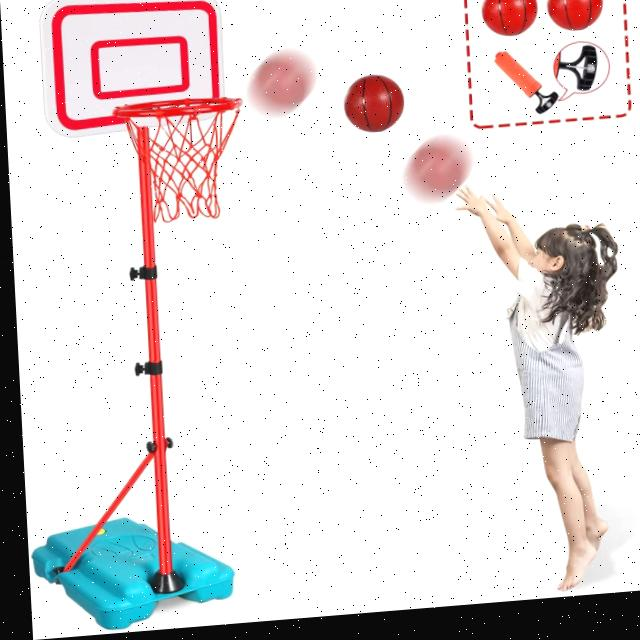basketball: (405, 135, 472, 198), (343, 72, 405, 134), (254, 51, 318, 111), (482, 0, 538, 38), (546, 0, 604, 33)
hoop: (113, 93, 250, 227)
